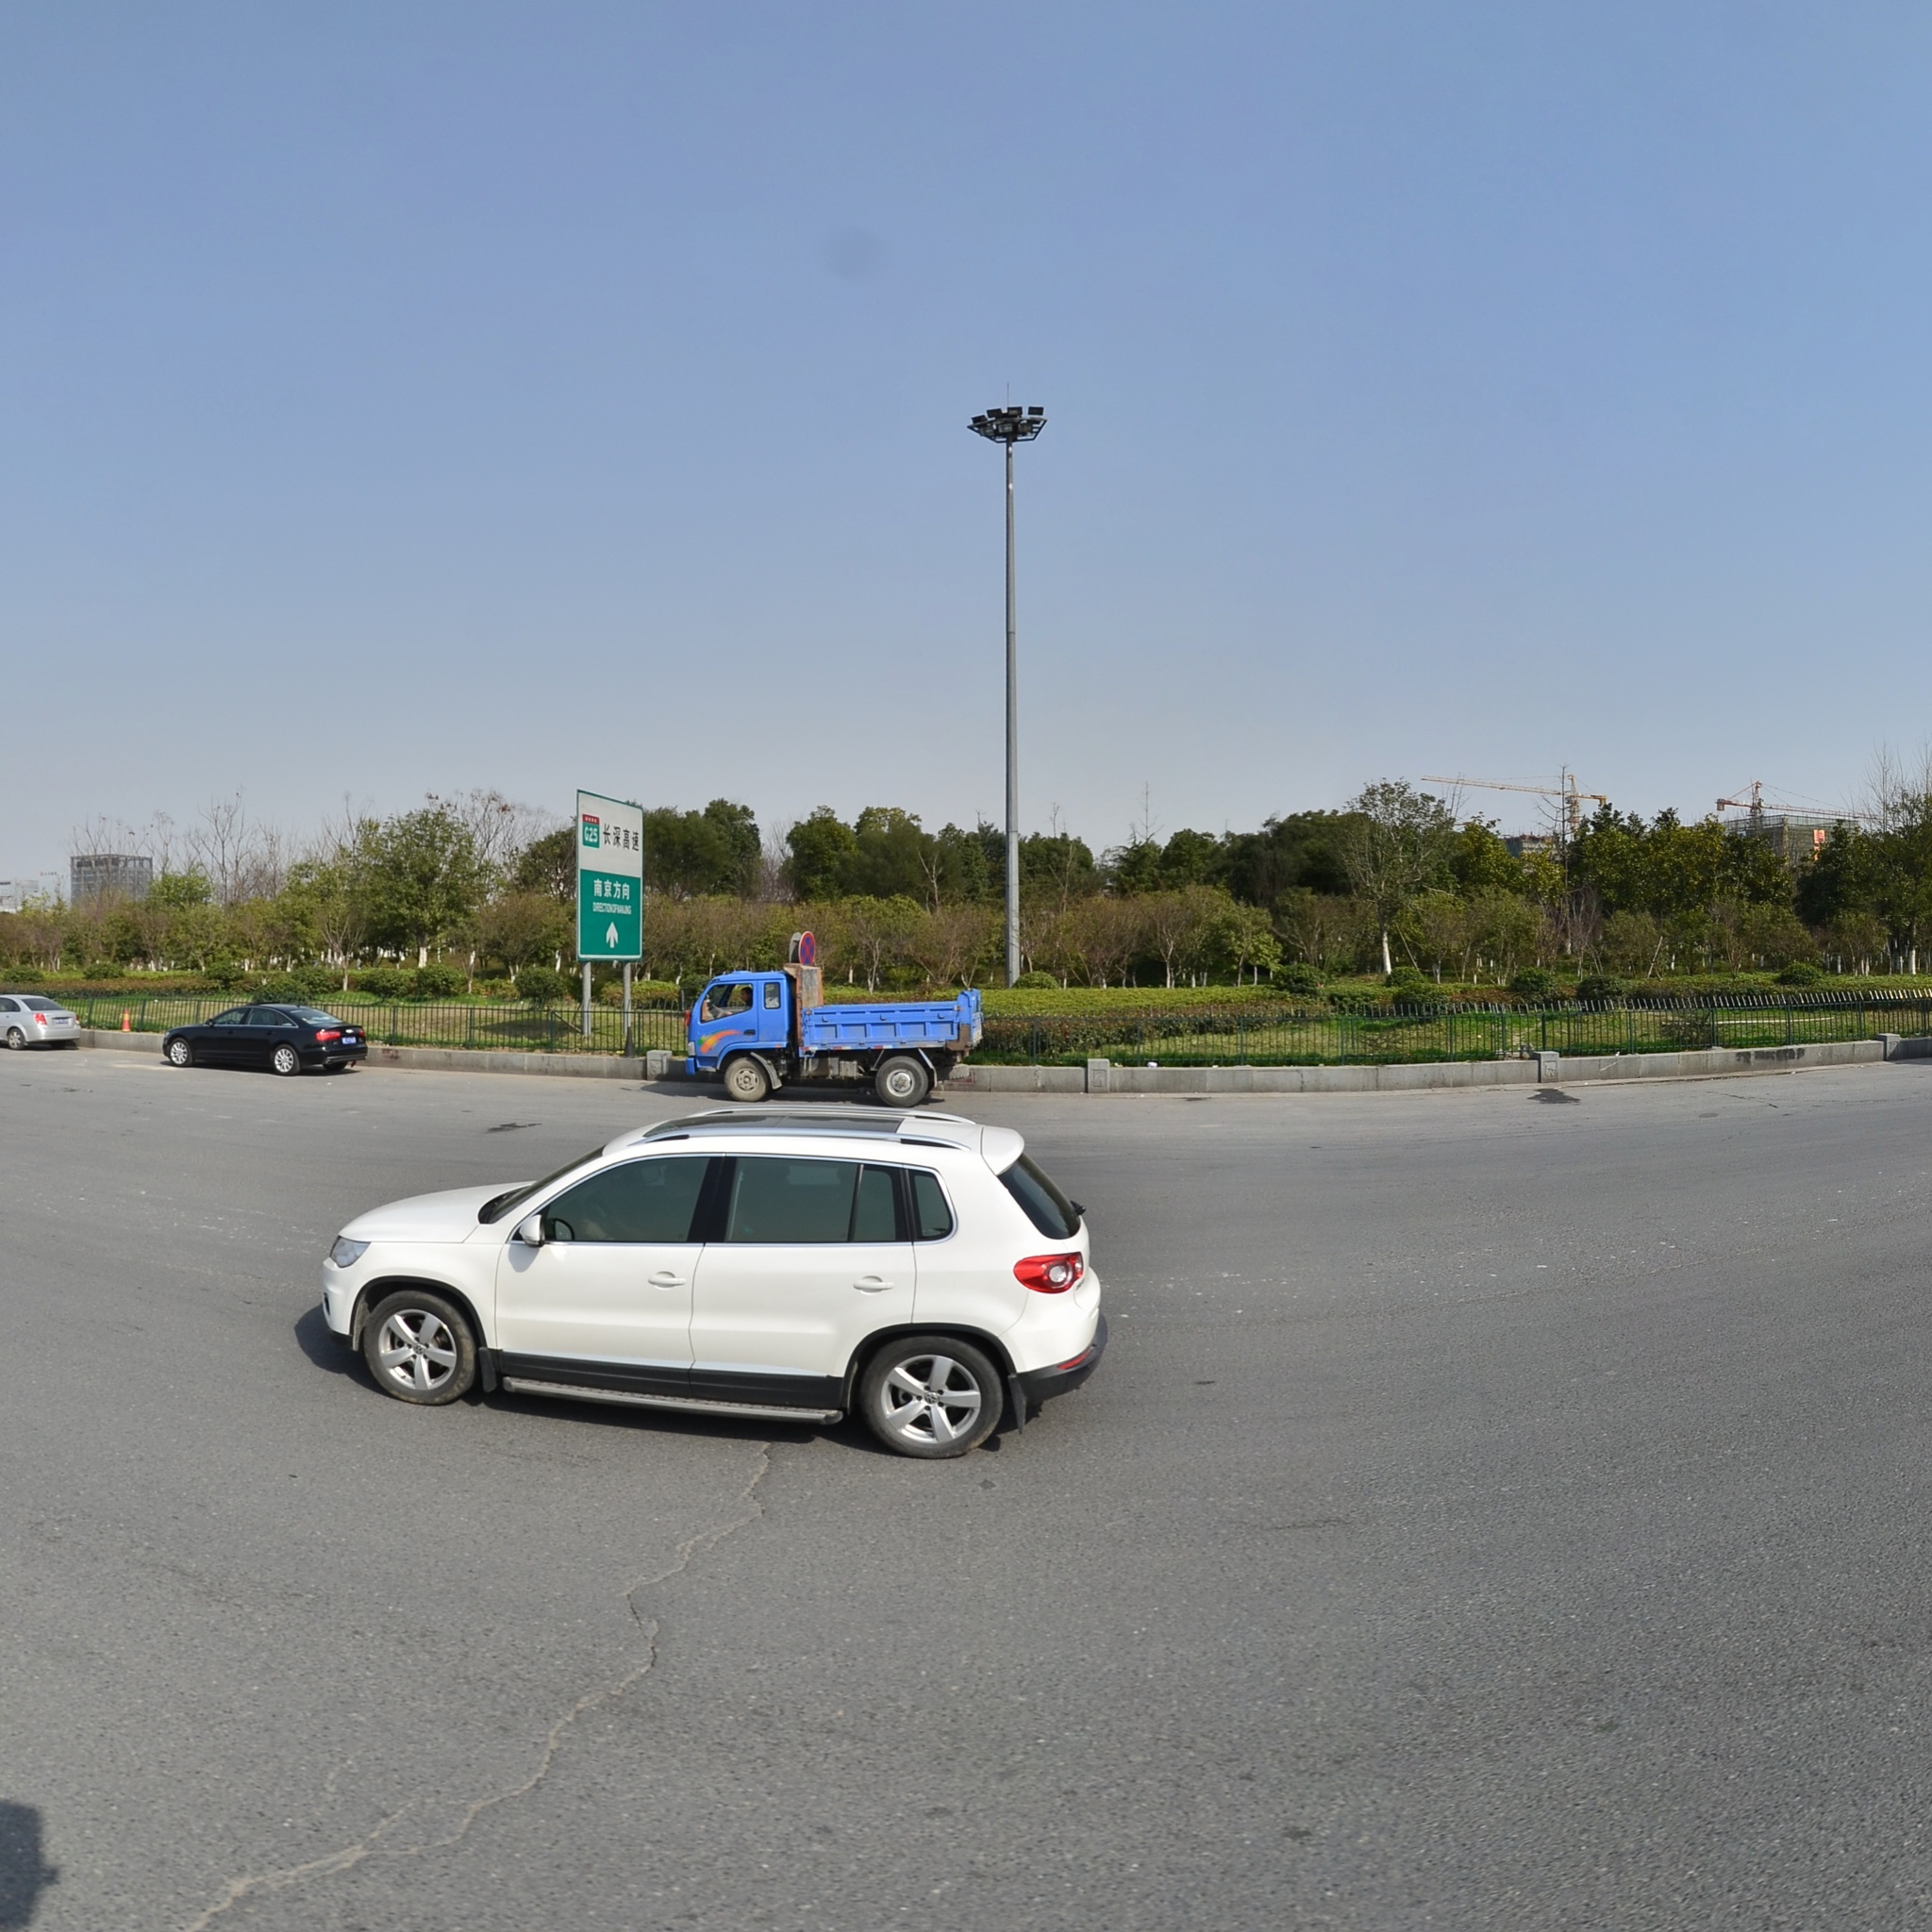traffic_sign: (796, 931, 817, 968)
